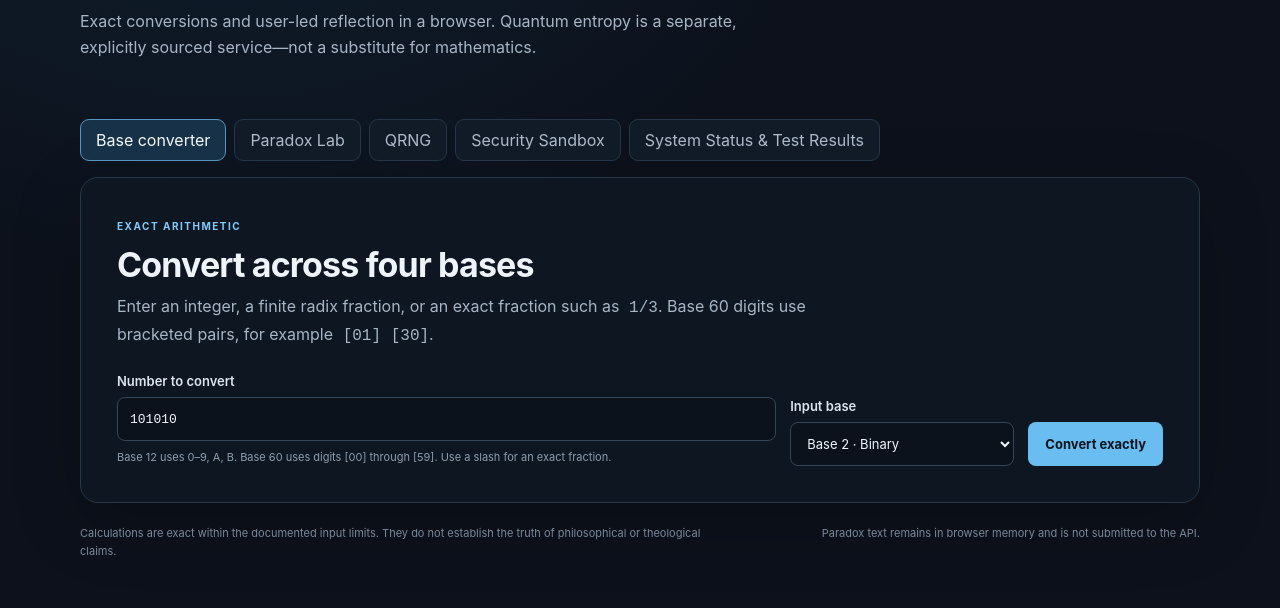
application interactions › converts an entered number through the base converter controls
(page scrolled)
Replace the text in the field labelled "Number to convert" with "1010": (447, 419) 117,397 -> 776,441
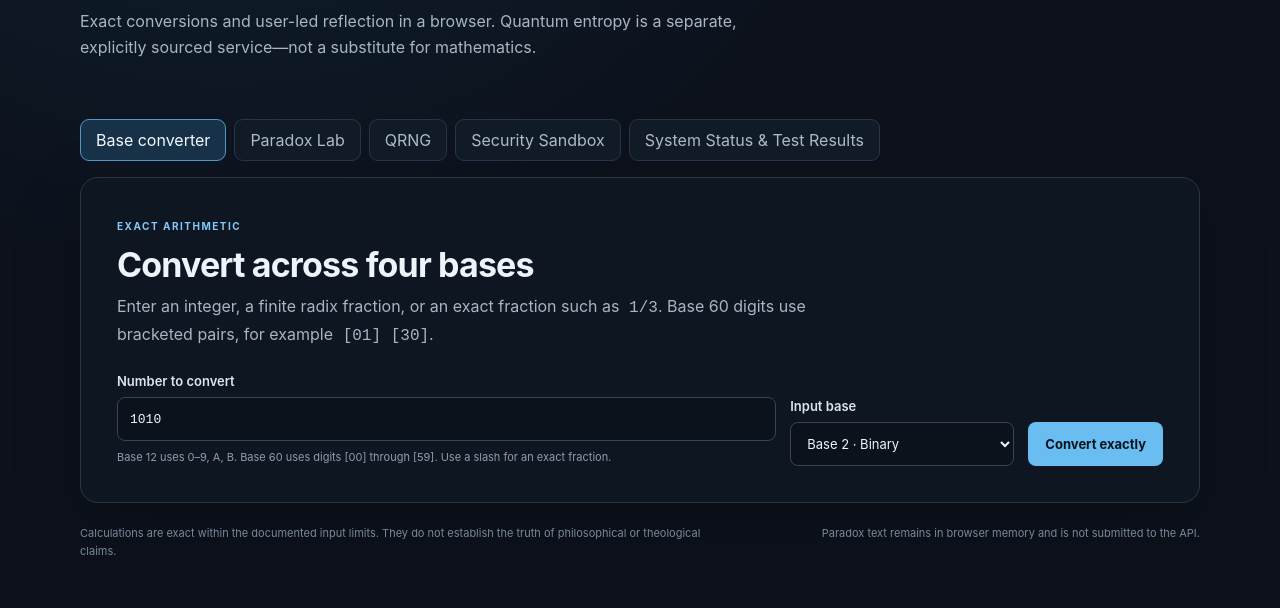
Select "Base 2 · Binary" in the dropdown labelled "Input base": (902, 444) 790,422 -> 1014,466
Click the button "Convert exactly": (1096, 444) 1028,422 -> 1163,466
(page scrolled)
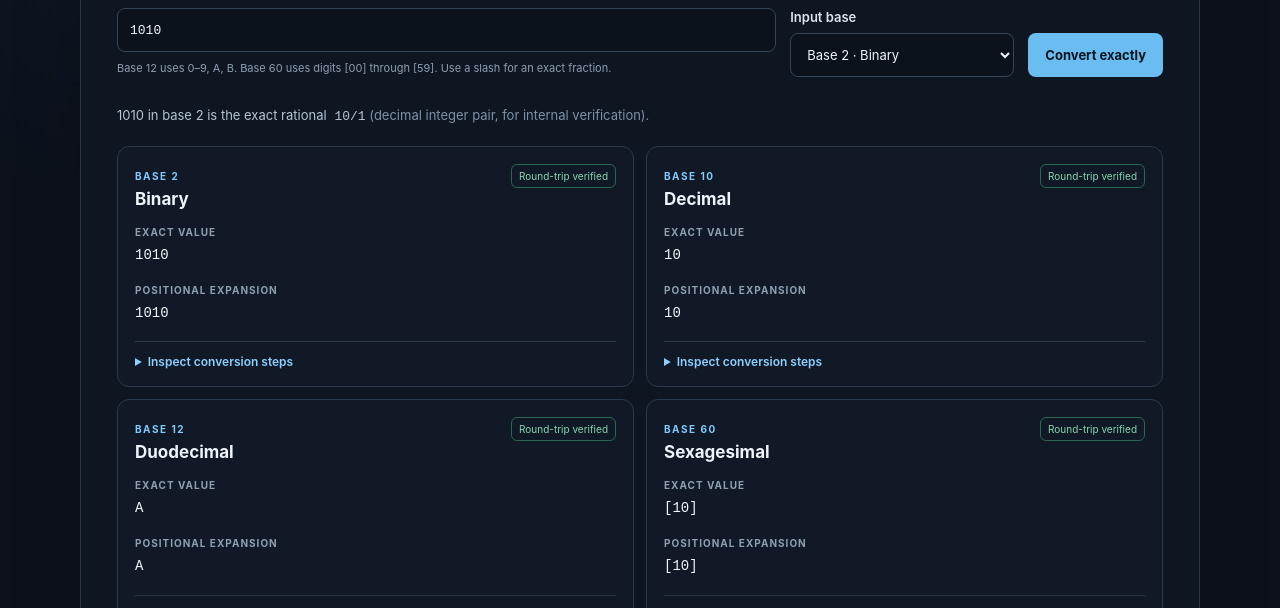
expect the text "in base 2 is the exact rational" is shown: met, box 117,107 -> 649,124
expect the 1st text "10" is shown: met, box 664,247 -> 681,263
